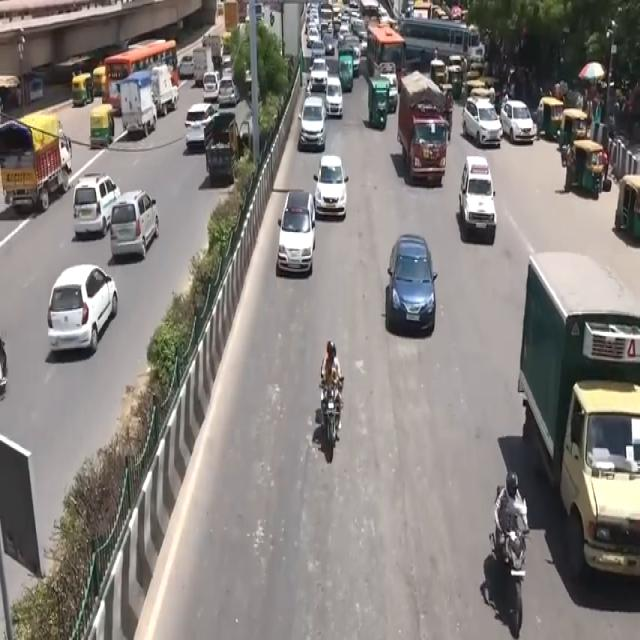MOTORCYCLE: (497, 516, 525, 634), (324, 383, 346, 466)
SED: (392, 238, 436, 335)
TRUCK: (527, 256, 640, 598), (0, 116, 67, 217), (397, 94, 449, 188)
